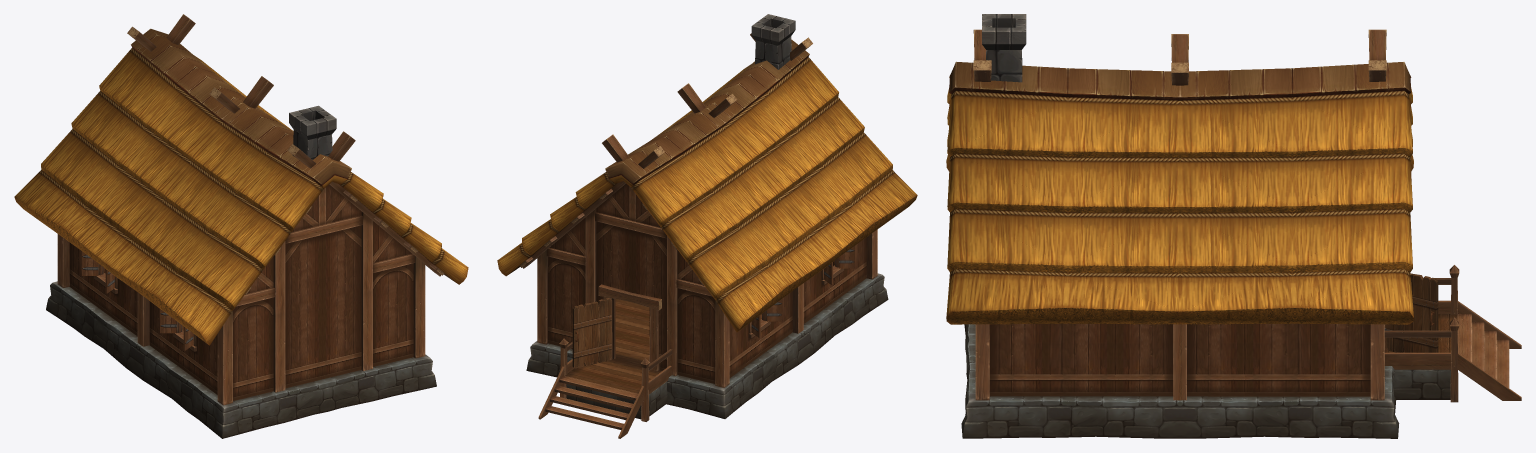
Rendered from fantasy_wooden_house.glb.
The picture shows the model from 3 angles, left to right: view 1: azimuth 30°, elevation 25°; view 2: azimuth 150°, elevation 25°; view 3: azimuth 270°, elevation 25°; orthographic projection. The views are drawn at different scales.
Visible parts, largest first — view 1: WoodenHouse_Village1_WoodenHouse1_0; view 2: WoodenHouse_Village1_WoodenHouse1_0; view 3: WoodenHouse_Village1_WoodenHouse1_0.
Boxes of the visible parts, <box> form: WoodenHouse_Village1_WoodenHouse1_0: <box>14,14,468,438</box>; WoodenHouse_Village1_WoodenHouse1_0: <box>497,14,917,438</box>; WoodenHouse_Village1_WoodenHouse1_0: <box>946,14,1521,438</box>.
Size of the model in its own units: 8.84 by 8.97 by 13.31.
1 material, 1 textured.
